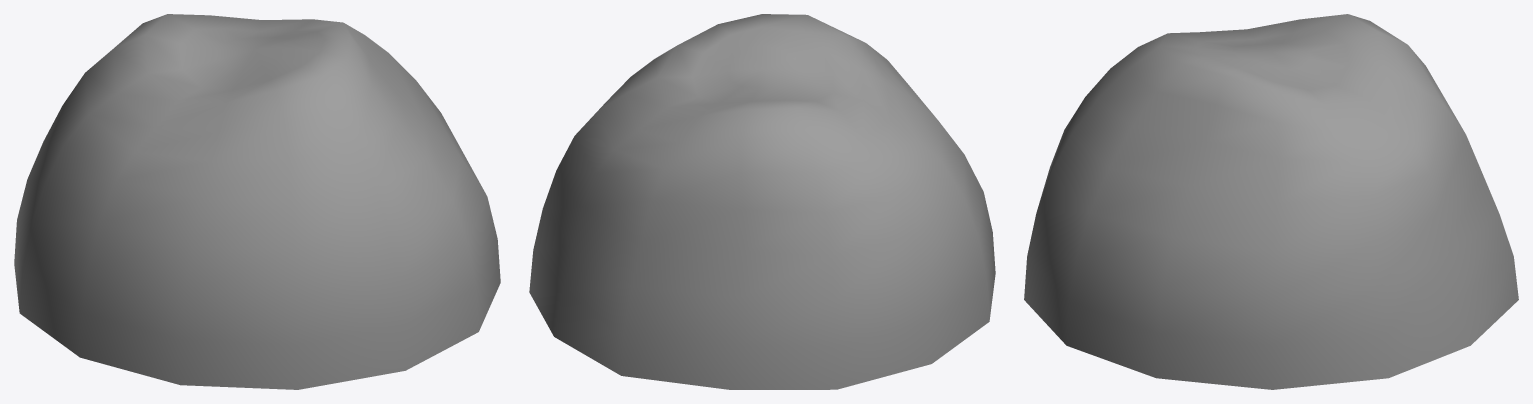
Rendered from Environment_Rock_01.fbx.
3 views of the same model, side by side, from view 1: azimuth 30°, elevation 25°; view 2: azimuth 150°, elevation 25°; view 3: azimuth 270°, elevation 25° (orthographic). The views are drawn at different scales.
Parts seen in each view (by area): view 1: Environment_Rock_01; view 2: Environment_Rock_01; view 3: Environment_Rock_01.
Part boxes in pixels (x1,y1,x2,y2): Environment_Rock_01: (14,14,500,389); Environment_Rock_01: (529,14,995,389); Environment_Rock_01: (1024,14,1518,389).
Bounding box in the file's own units: 0.4517 × 0.2577 × 0.4679.
